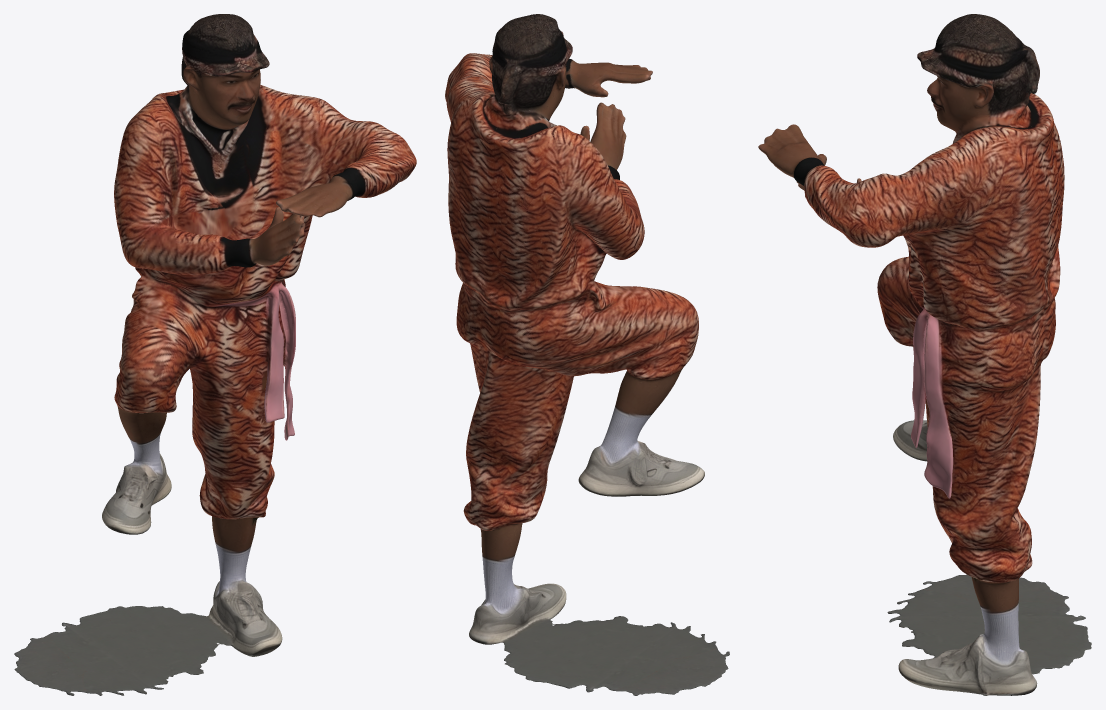
File: tepak 3.glb
The picture shows the model from 3 angles, left to right: view 1: azimuth 30°, elevation 25°; view 2: azimuth 150°, elevation 25°; view 3: azimuth 270°, elevation 25°; orthographic projection. The views are drawn at different scales.
Visible parts, largest first — view 1: mesh_node; view 2: mesh_node; view 3: mesh_node.
Boxes of the visible parts, x1=… form: mesh_node: x1=14, y1=14, x2=416, y2=695; mesh_node: x1=445, y1=14, x2=729, y2=695; mesh_node: x1=758, y1=14, x2=1091, y2=695.
Bounding box in the file's own units: 1.05 × 1.9 × 0.8746.
1 material, 1 textured.
